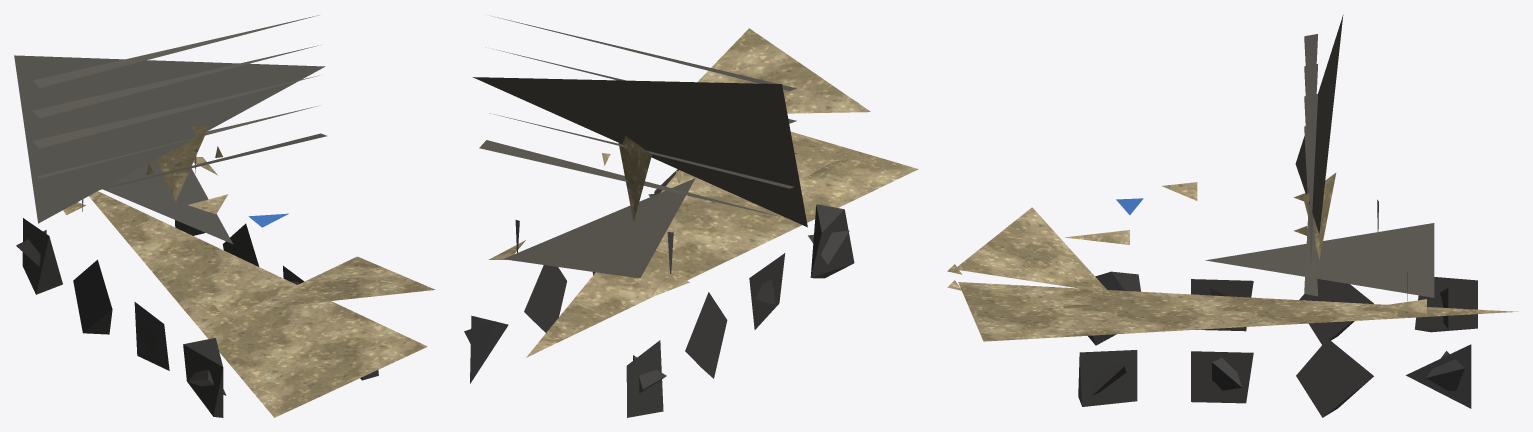
The model's file is rad_e4_us_search_LOD2.glb.
3 renders of one model, left to right at view 1: azimuth 30°, elevation 25°; view 2: azimuth 150°, elevation 25°; view 3: azimuth 270°, elevation 25°, orthographic. The views are drawn at different scales.
Parts seen in each view (by area): view 1: rad_e4_us_search_LOD2_deck, rad_e4_us_search_LOD2_body, rad_e4_us_search_LOD2_track; view 2: rad_e4_us_search_LOD2_deck, rad_e4_us_search_LOD2_body, rad_e4_us_search_LOD2_track; view 3: rad_e4_us_search_LOD2_body, rad_e4_us_search_LOD2_track, rad_e4_us_search_LOD2_deck.
Boxes of the visible parts, x1,y1,x2,y2 form: rad_e4_us_search_LOD2_deck: [14, 15, 327, 244]; rad_e4_us_search_LOD2_body: [63, 126, 435, 417]; rad_e4_us_search_LOD2_track: [16, 218, 378, 417]; rad_e4_us_search_LOD2_deck: [472, 15, 807, 278]; rad_e4_us_search_LOD2_body: [488, 28, 918, 357]; rad_e4_us_search_LOD2_track: [464, 169, 854, 417]; rad_e4_us_search_LOD2_body: [947, 173, 1518, 341]; rad_e4_us_search_LOD2_track: [1078, 271, 1477, 417]; rad_e4_us_search_LOD2_deck: [1205, 15, 1434, 297].
Bounding box in the file's own units: 5.4 × 5.03 × 8.97.
5 materials, 1 textured.
